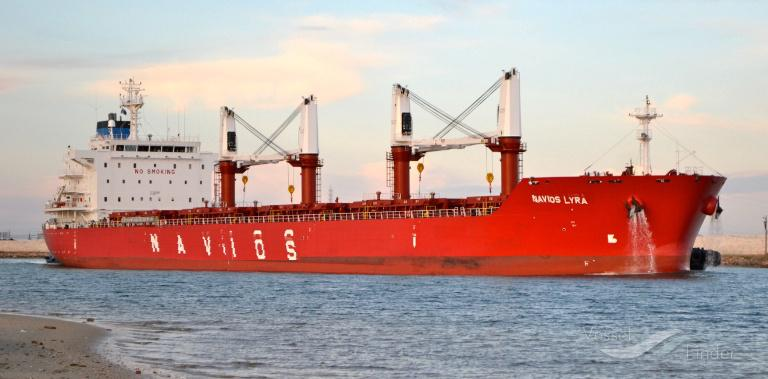OCR: (138, 225, 300, 260), (526, 188, 594, 204)
